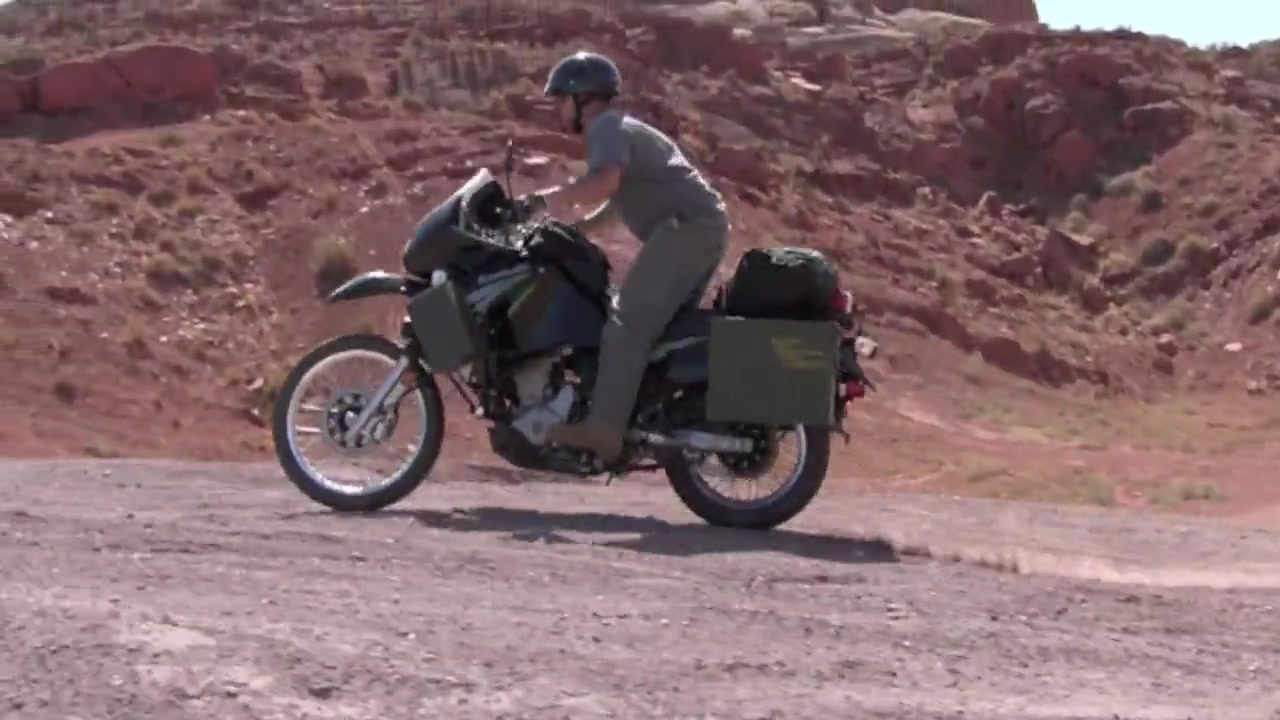motorbike: (267, 164, 883, 534)
